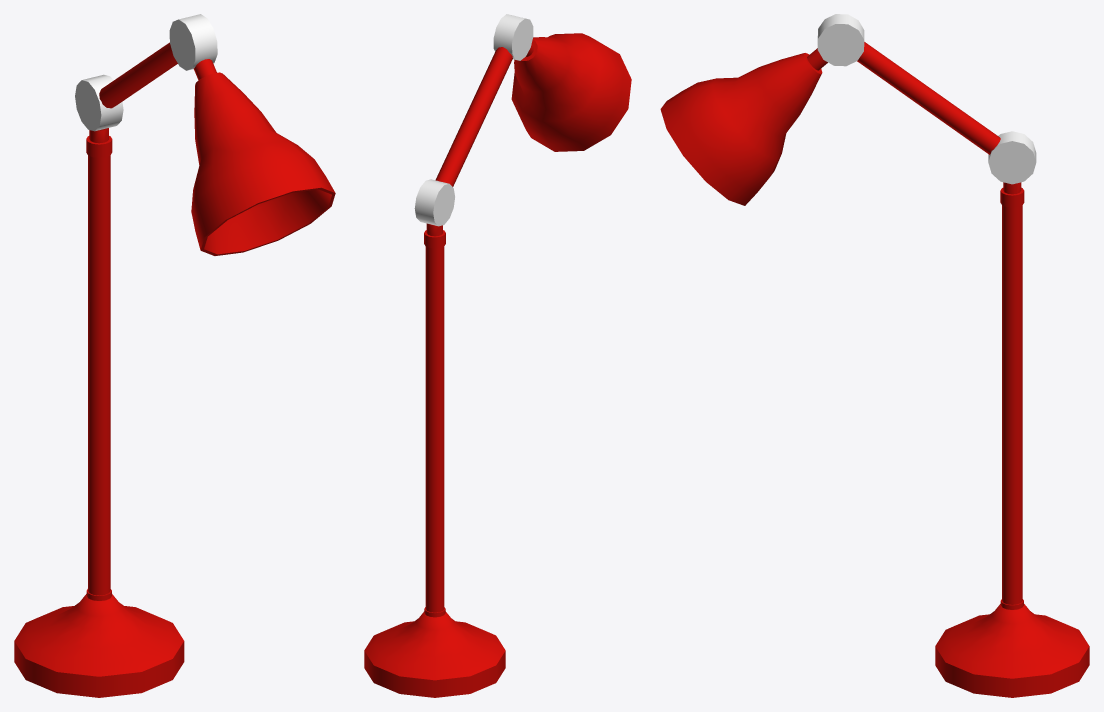
Rendered from red_desk_lamp.glb.
The picture shows the model from 3 angles, left to right: view 1: azimuth 30°, elevation 25°; view 2: azimuth 150°, elevation 25°; view 3: azimuth 270°, elevation 25°; orthographic projection. The views are drawn at different scales.
Visible parts, largest first — view 1: red_desk_lamp; view 2: red_desk_lamp; view 3: red_desk_lamp.
Part boxes in pixels (x1=…): red_desk_lamp: x1=14, y1=14, x2=335, y2=697; red_desk_lamp: x1=364, y1=14, x2=631, y2=697; red_desk_lamp: x1=660, y1=14, x2=1089, y2=697.
Size of the model in its own units: 0.1122 by 0.5188 by 0.312.
2 materials, 2 textured.
